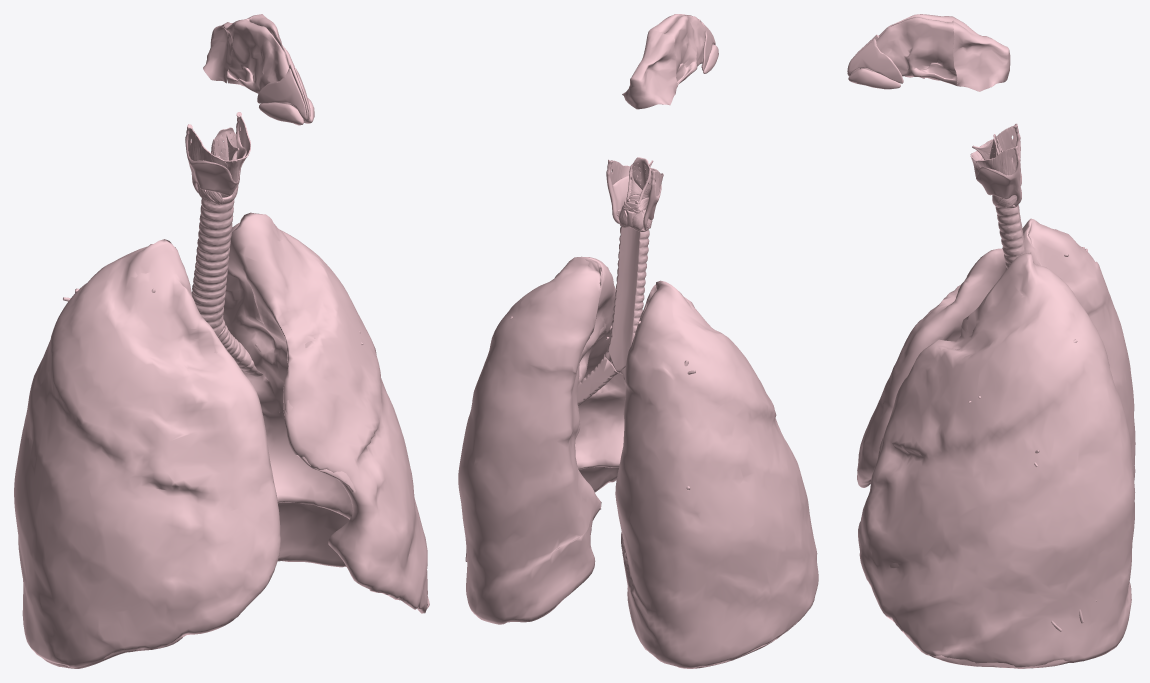
Rendered from respiratorio.glb.
The picture shows the model from 3 angles, left to right: view 1: azimuth 30°, elevation 25°; view 2: azimuth 150°, elevation 25°; view 3: azimuth 270°, elevation 25°; orthographic projection. The views are drawn at different scales.
Parts seen in each view (by area): view 1: ZA0983, FJ2541, ZA0981, FJ2808, ZA0982, FJ2558, FJ2450, FJ2554, FJ2804; view 2: ZA0983, FJ2541, ZA0982, ZA0981, FJ2808, FJ2450; view 3: ZA0983, ZA0981, ZA0982, FJ2541, FJ2808, FJ2556, FJ2555, FJ2786, ZA0978, FJ2804.
Part boxes in pixels (box(x1,y1,x2,y2)): ZA0983: box(14, 212, 428, 667); FJ2541: box(191, 198, 234, 336); ZA0981: box(226, 14, 297, 109); FJ2808: box(185, 126, 246, 195); ZA0982: box(203, 15, 256, 83); FJ2558: box(257, 68, 306, 120); FJ2450: box(218, 324, 262, 376); FJ2554: box(259, 102, 303, 125); FJ2804: box(188, 126, 226, 167); ZA0983: box(458, 256, 818, 668); FJ2541: box(604, 227, 649, 373); ZA0982: box(622, 29, 677, 109); ZA0981: box(650, 14, 706, 87); FJ2808: box(606, 172, 661, 230); FJ2450: box(577, 355, 618, 405); ZA0983: box(857, 218, 1135, 667); ZA0981: box(860, 14, 957, 85); ZA0982: box(953, 16, 1010, 91); FJ2541: box(995, 204, 1026, 268); FJ2808: box(976, 136, 1021, 205); FJ2556: box(847, 38, 903, 83); FJ2555: box(848, 68, 900, 89); FJ2786: box(976, 147, 1016, 175); ZA0978: box(929, 650, 1070, 668); FJ2804: box(977, 125, 1016, 160).
Size of the model in its own units: 0.254 by 0.4288 by 0.1929.
